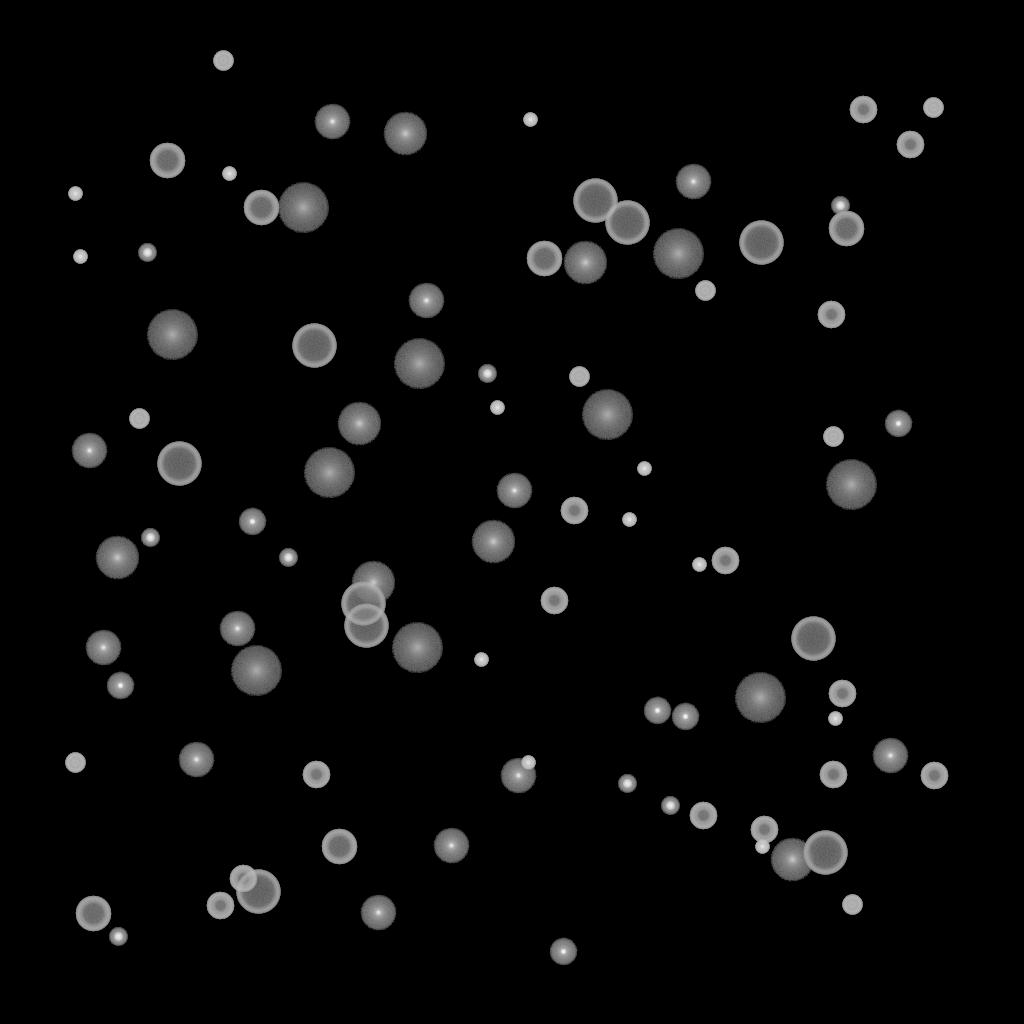depth:-10: (884, 410, 912, 438), (671, 703, 699, 731), (643, 697, 671, 725), (549, 938, 577, 966), (106, 672, 134, 700), (238, 508, 266, 536)
depth:-20: (661, 797, 679, 815), (478, 365, 496, 383), (831, 197, 849, 215), (141, 529, 159, 547), (618, 775, 636, 793), (279, 549, 297, 567), (109, 928, 127, 946), (138, 244, 156, 262)
depth:-30: (692, 558, 706, 572), (622, 513, 636, 527), (523, 113, 537, 127), (755, 840, 769, 854), (521, 756, 535, 770), (474, 653, 488, 667), (222, 167, 236, 181), (490, 401, 504, 415), (637, 462, 651, 476), (828, 712, 842, 726), (68, 187, 82, 201), (73, 250, 87, 264)
depth:-40: (569, 367, 589, 387), (923, 98, 943, 118), (842, 895, 862, 915), (213, 51, 233, 71), (65, 753, 85, 773), (823, 427, 843, 447), (129, 409, 149, 429), (695, 281, 715, 301)
depth:-50: (302, 761, 330, 789), (896, 131, 924, 159), (540, 587, 568, 615), (920, 762, 948, 790), (711, 547, 739, 575), (206, 892, 234, 920), (849, 96, 877, 124), (828, 680, 856, 708), (819, 761, 847, 789), (817, 301, 845, 329), (689, 802, 717, 830), (560, 497, 588, 525), (750, 816, 778, 844), (229, 865, 257, 893)
depth:-60: (149, 143, 185, 179), (321, 829, 357, 865), (526, 241, 562, 277), (75, 896, 111, 932), (243, 190, 279, 226), (828, 211, 864, 247)
depth:-70: (739, 221, 783, 265), (573, 179, 617, 223), (341, 582, 385, 626), (157, 442, 201, 486), (803, 831, 847, 875), (791, 617, 835, 661), (344, 604, 388, 648), (292, 324, 336, 368), (236, 870, 280, 914), (605, 201, 649, 245)
depth:0: (872, 738, 908, 774), (71, 433, 107, 469), (314, 104, 350, 140), (433, 828, 469, 864), (219, 611, 255, 647), (85, 630, 121, 666), (496, 473, 532, 509), (178, 742, 214, 778), (675, 164, 711, 200), (360, 895, 396, 931), (408, 283, 444, 319), (500, 758, 536, 794)
depth:10: (337, 402, 381, 446), (383, 112, 427, 156), (563, 241, 607, 285), (351, 561, 395, 605), (95, 536, 139, 580), (471, 520, 515, 564), (770, 838, 814, 882)
depth:20: (734, 673, 786, 723), (303, 448, 355, 498), (581, 390, 633, 440), (652, 229, 704, 279), (393, 339, 445, 389), (825, 460, 877, 510), (391, 623, 443, 673), (277, 183, 329, 233), (230, 646, 282, 696), (146, 310, 198, 360)
